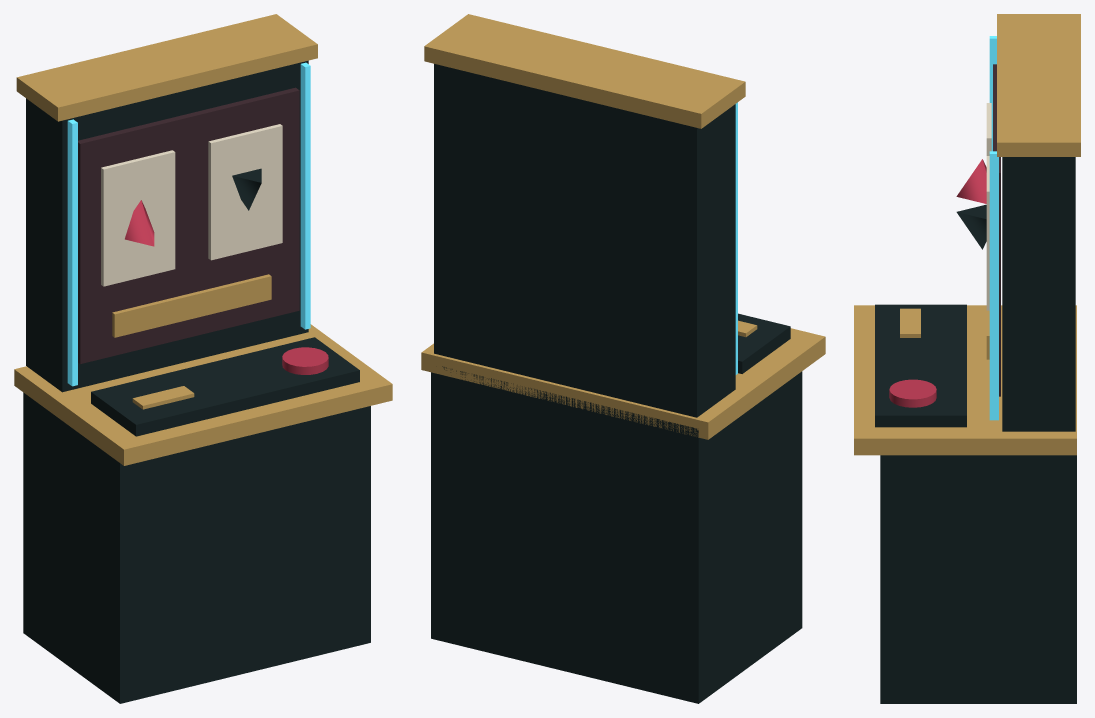
Rendered from hilo.glb.
3 renders of one model, left to right at view 1: azimuth 30°, elevation 25°; view 2: azimuth 150°, elevation 25°; view 3: azimuth 270°, elevation 25°, orthographic. The views are drawn at different scales.
Size of the model in its own units: 1.2 by 2.37 by 0.865.
